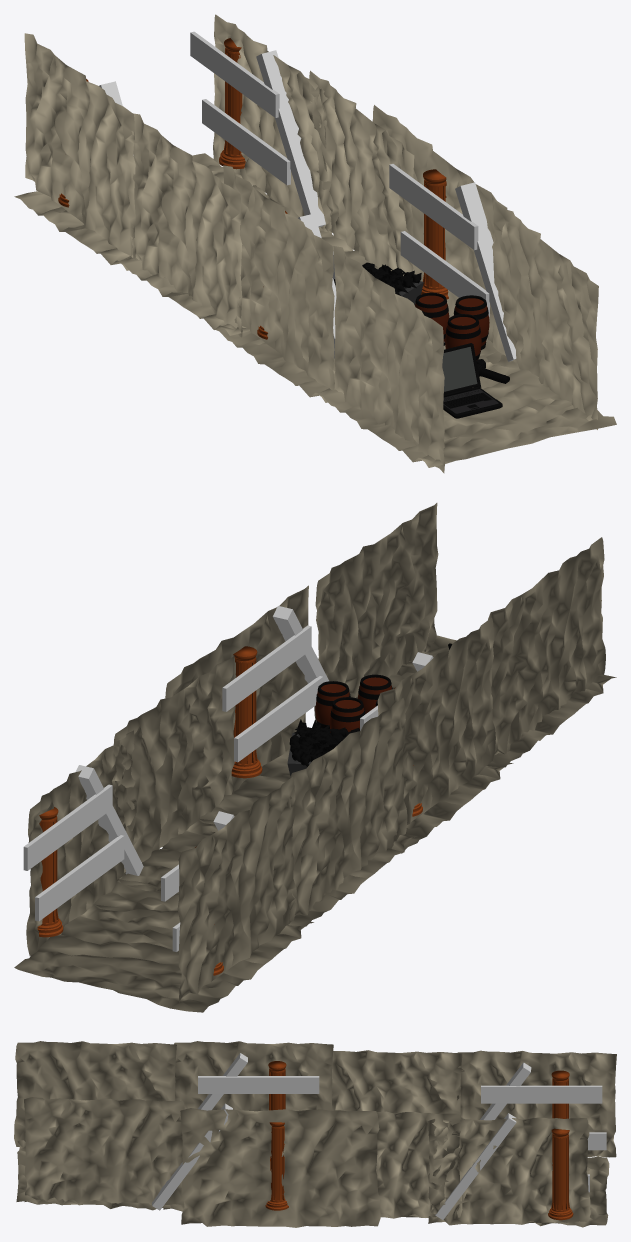
Rendered from Mina.fbx.
3 views of the same model, one above another, from view 1: azimuth 30°, elevation 25°; view 2: azimuth 150°, elevation 25°; view 3: azimuth 270°, elevation 25° (orthographic). The views are drawn at different scales.
Parts seen in each view (by area): view 1: carrito, Laptop; view 2: carrito; view 3: carrito.
Part boxes in pixels (left/top/right/bottom): carrito: left=14, top=14, right=616, bottom=473; Laptop: left=442, top=343, right=502, bottom=418; carrito: left=14, top=503, right=616, bottom=1012; carrito: left=14, top=1041, right=616, bottom=1227.
Bounding box in the file's own units: 1031 × 838 × 3653.
